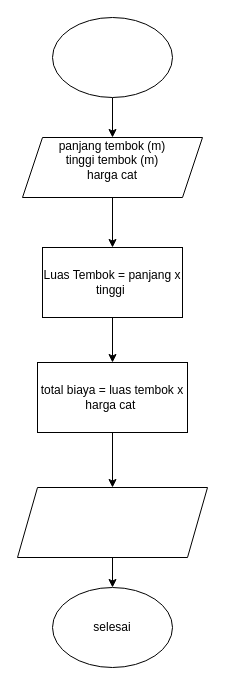
Some shapes in this 225 by 685 pixel diagram are drawn without their labels. Each missing label, with the box of its shape:
mulai: (52, 16, 172, 98)
tampilkan hasil : luas tembok dan total biaya: (16, 486, 208, 558)
